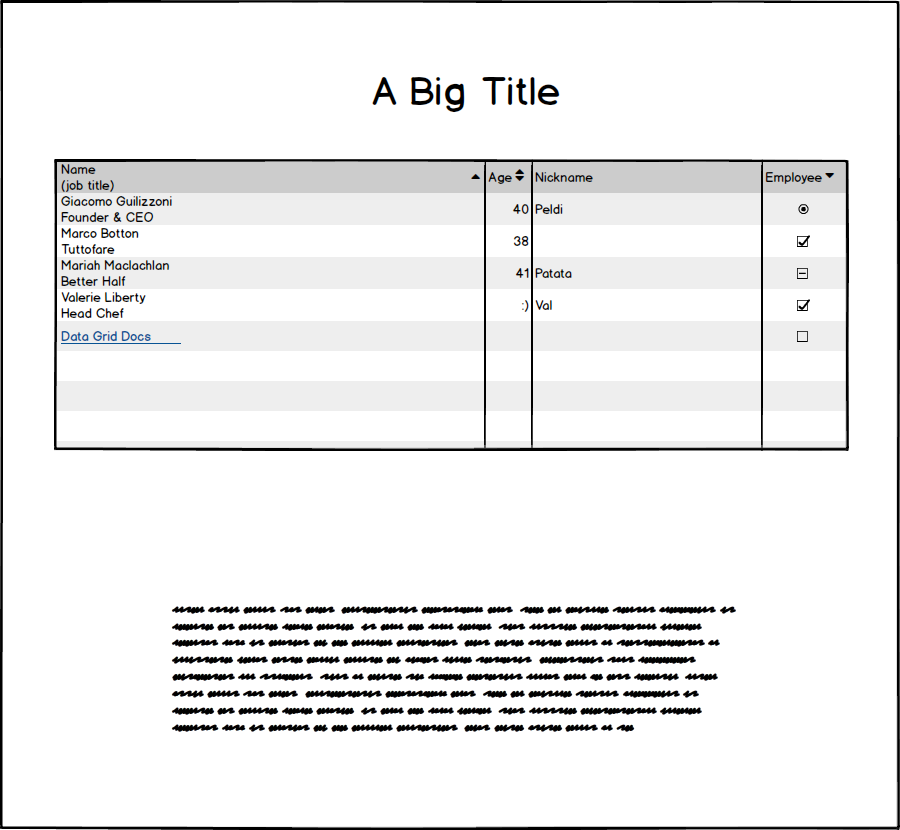h1: (371, 64, 566, 120)
p: (168, 595, 742, 739)
table: (45, 152, 861, 458)
